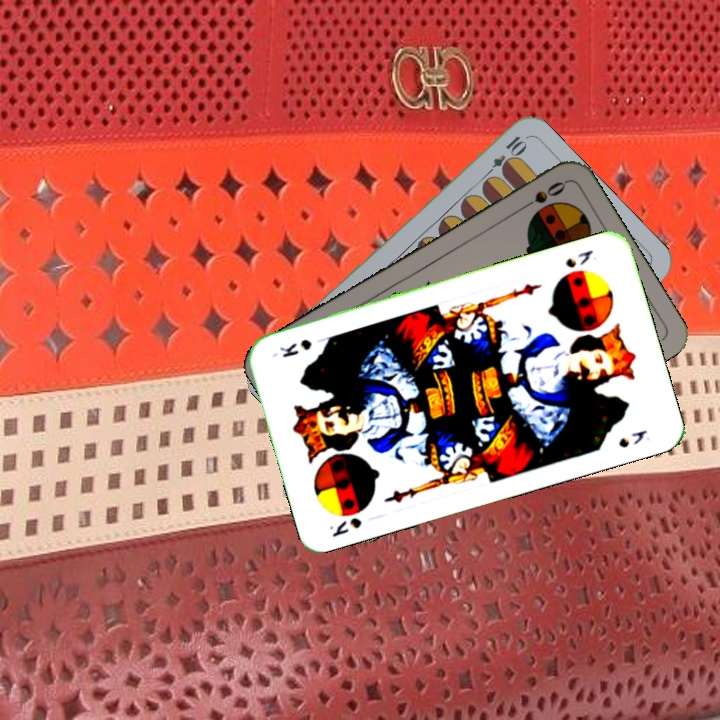E10: (480, 131, 528, 181)
SK: (325, 513, 365, 540), (561, 246, 596, 271)
SO: (515, 177, 569, 214)
